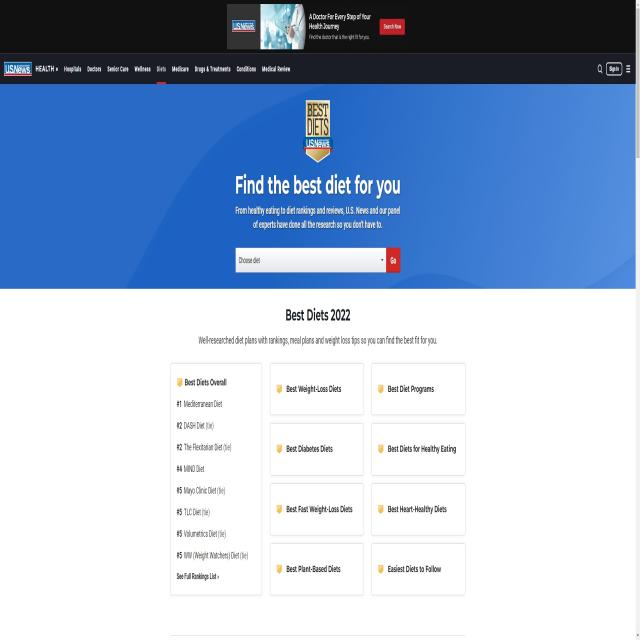menu-bar: (594, 59, 632, 80)
search: (234, 244, 400, 276)
tab-bar: (33, 57, 292, 79)
